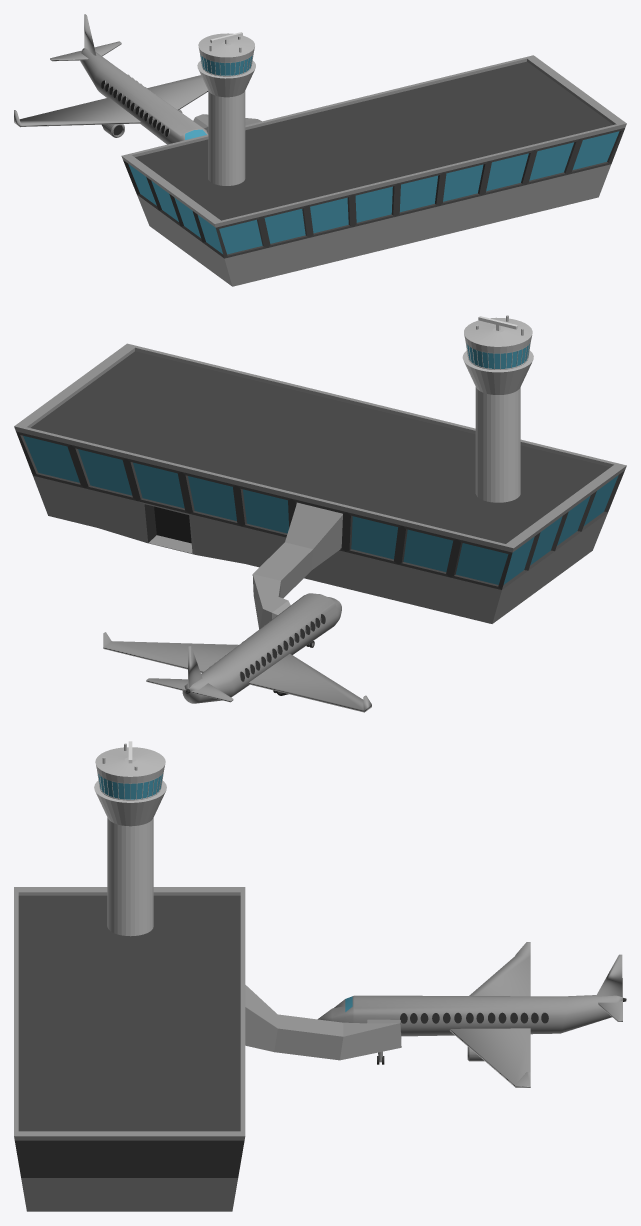
Rendered from scene.ff4dff5e.glb.
3 views of the same model, one above another, from view 1: azimuth 30°, elevation 25°; view 2: azimuth 150°, elevation 25°; view 3: azimuth 270°, elevation 25° (orthographic). The views are drawn at different scales.
Visible parts, largest first — view 1: AirportTerminal, AirportTerminal.002, AirportControlTower; view 2: AirportTerminal, AirportTerminal.002, AirportControlTower; view 3: AirportTerminal, AirportTerminal.002, AirportControlTower.
Part boxes in pixels (x1,y1,x2,y2): AirportTerminal: [121, 55, 626, 286]; AirportTerminal.002: [14, 14, 208, 144]; AirportControlTower: [197, 33, 255, 185]; AirportTerminal: [14, 343, 626, 629]; AirportTerminal.002: [103, 593, 371, 712]; AirportControlTower: [462, 315, 533, 502]; AirportTerminal: [14, 887, 401, 1211]; AirportTerminal.002: [318, 942, 626, 1087]; AirportControlTower: [94, 743, 166, 936].
Size of what is drawn, in the model's own units: 5.74 by 2.84 by 5.96.
